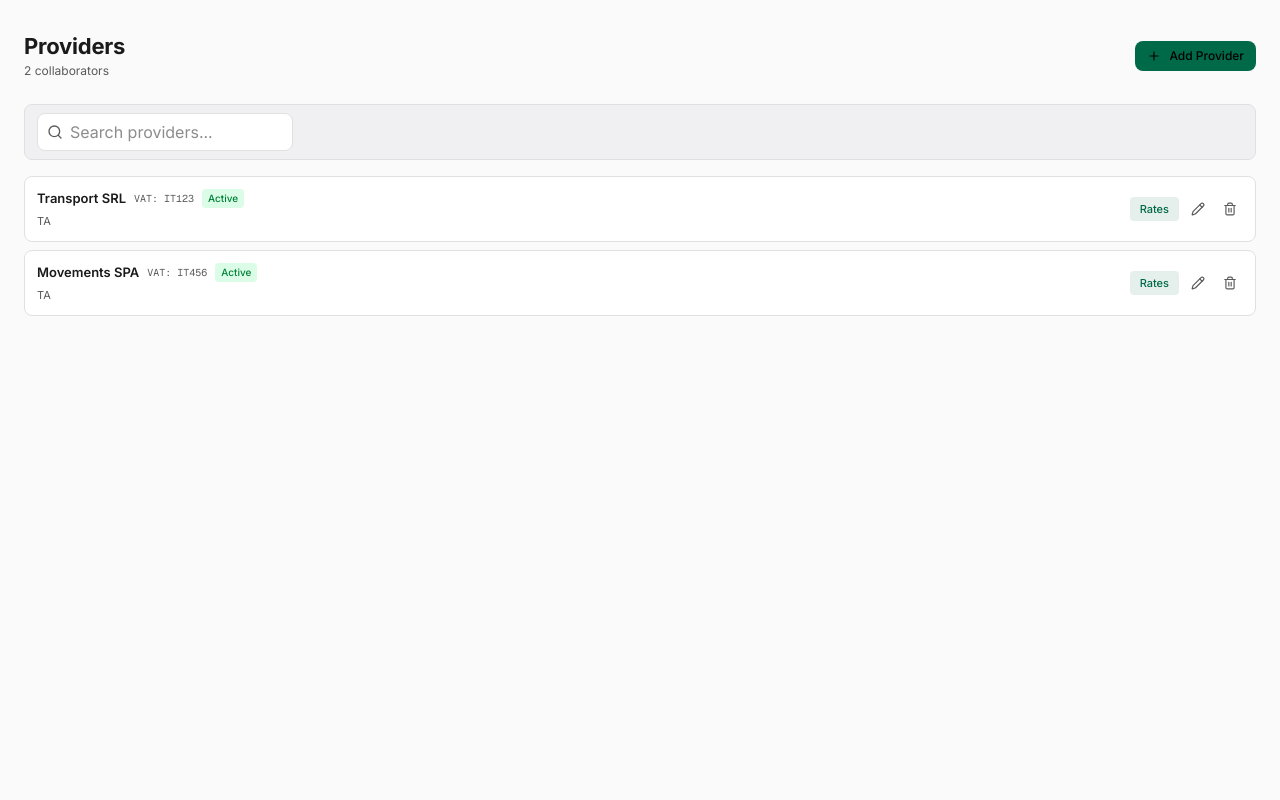
Test: CollaboratorScreen › disables Create button when name is empty
The width and height of the screenshot is (1280, 800).
Expected: the text "Transport SRL" is shown, [37,189,126,208]
Click the button "Add Provider": (1196, 56) [1135,41,1256,71]
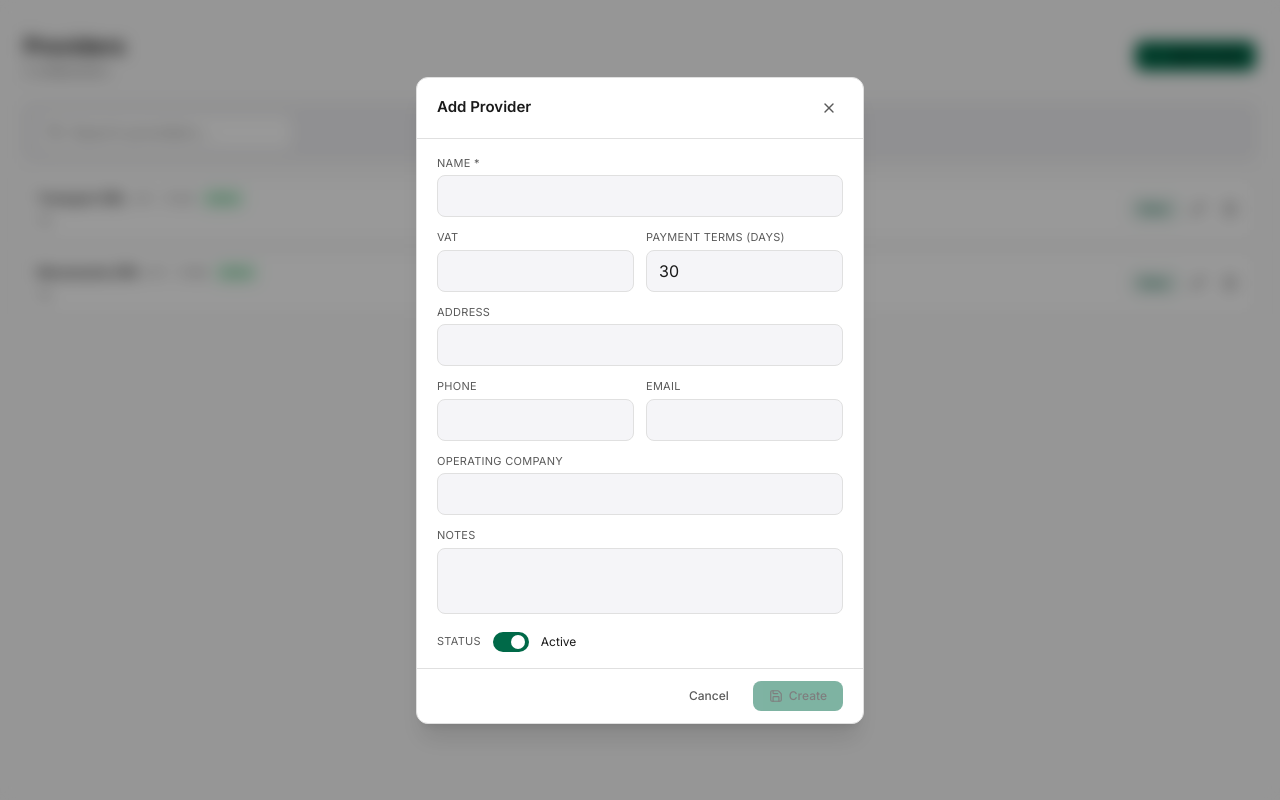
Expected: the button "Create" is disabled, [753,680,843,710]
